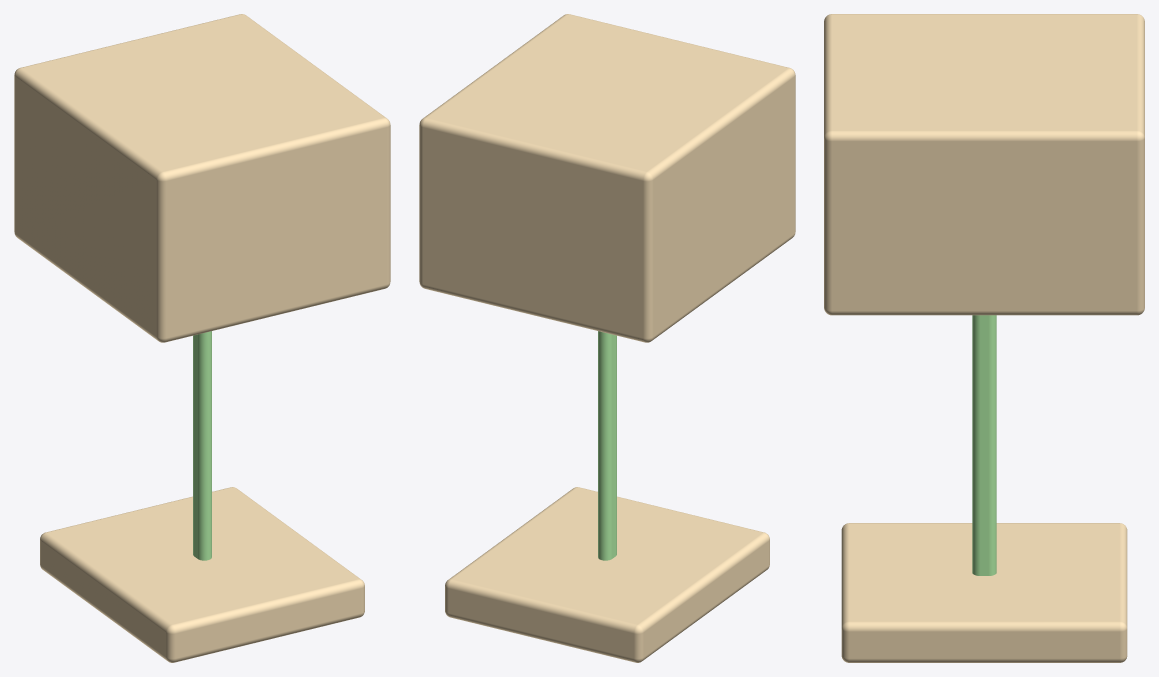
Rendered from lamp.glb.
The picture shows the model from 3 angles, left to right: view 1: azimuth 30°, elevation 25°; view 2: azimuth 150°, elevation 25°; view 3: azimuth 270°, elevation 25°; orthographic projection. The views are drawn at different scales.
Parts seen in each view (by area): view 1: Box 2, Box, Box 1; view 2: Box 2, Box, Box 1; view 3: Box 2, Box, Box 1.
Boxes of the visible parts, <box> form: Box 2: <box>14,14,390,342</box>; Box: <box>40,487,364,662</box>; Box 1: <box>193,331,211,560</box>; Box 2: <box>419,14,795,342</box>; Box: <box>445,487,769,662</box>; Box 1: <box>598,331,616,560</box>; Box 2: <box>824,14,1144,315</box>; Box: <box>841,523,1127,662</box>; Box 1: <box>972,315,996,575</box>.
Size of the model in its own units: 0.143 by 0.2937 by 0.158.
